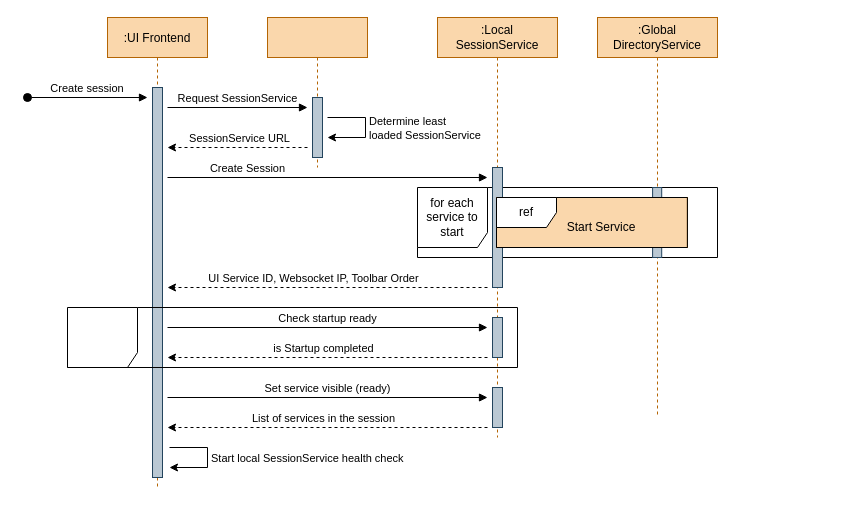
This 849x505 diagram has some shape labels left out. Here are the shapes that lost their labels. From the top down, the centre of each, then its label:
At pixel 317 92: ":Global SessionService".
At pixel 292 337: "while startup not completed".
